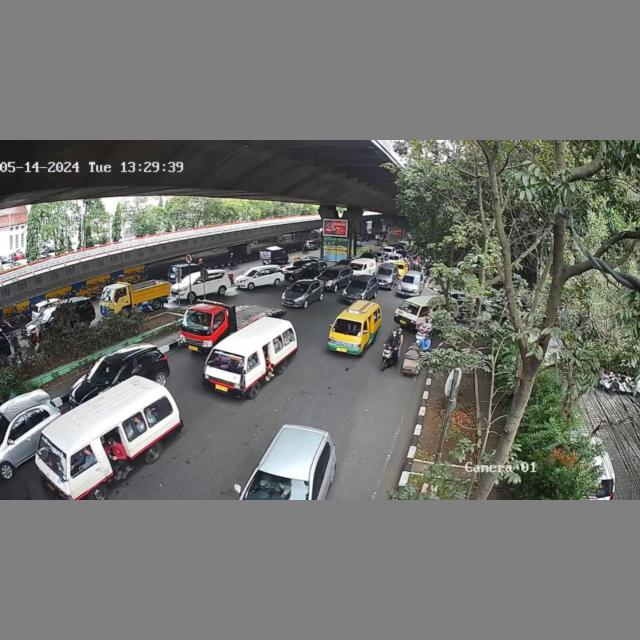windshield: (246, 471, 309, 500), (205, 344, 249, 375), (89, 358, 120, 383), (184, 308, 216, 330), (331, 317, 364, 337)
